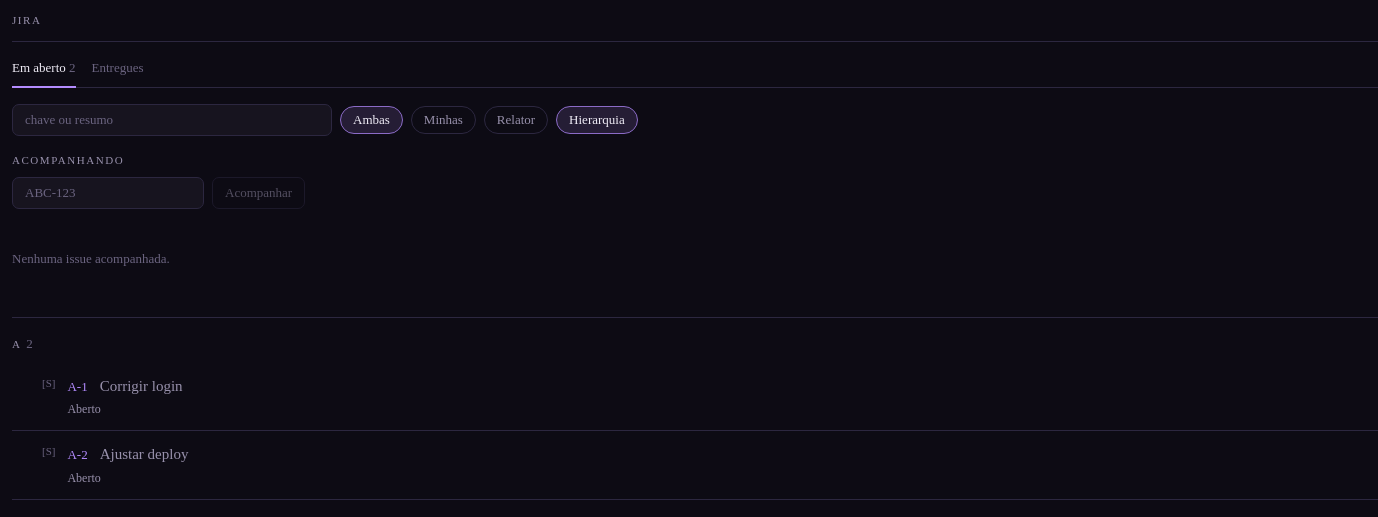
JiraPanel › filtra por busca textual
Type "login" into the search field named "buscar issues".
click(172, 120); type("login")  # box [12,104,332,136]
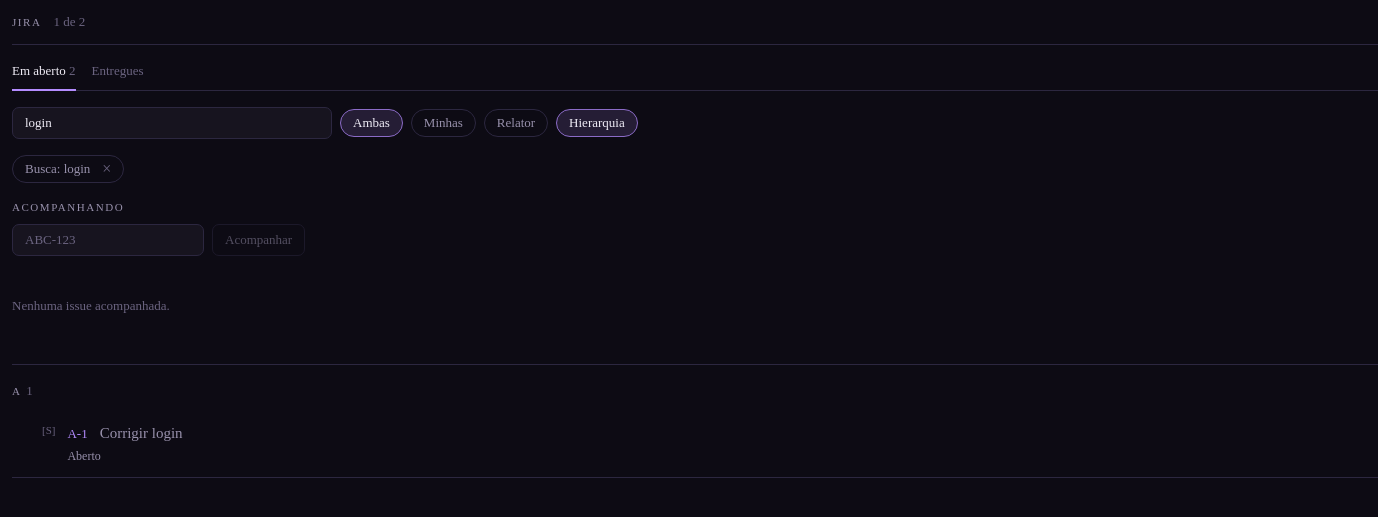
Expected: the link "A-1" is shown, [68,424,88,444]
Expected: the link "A-2" is gone
